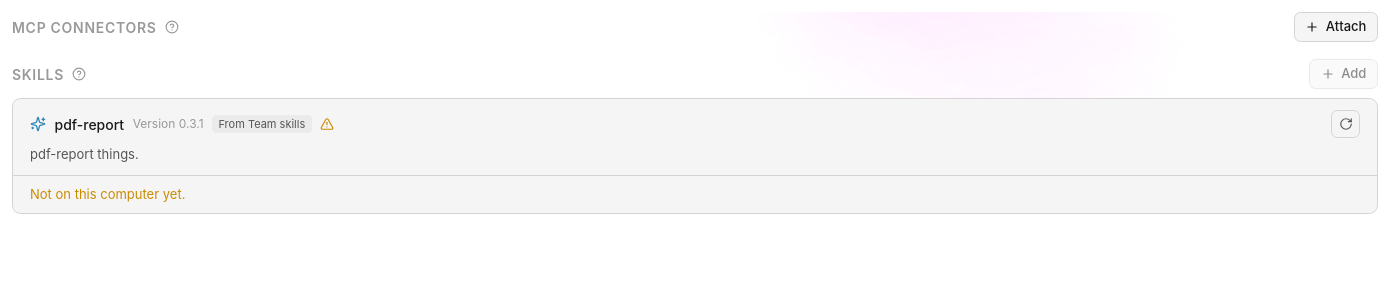
Scenario: the Skills section — a marketplace skill › offers Try again when the snapshot is not here, through the marketplace verb
Click the button named "Download pdf-report again" at (1346, 124), box [1331,110,1360,138]
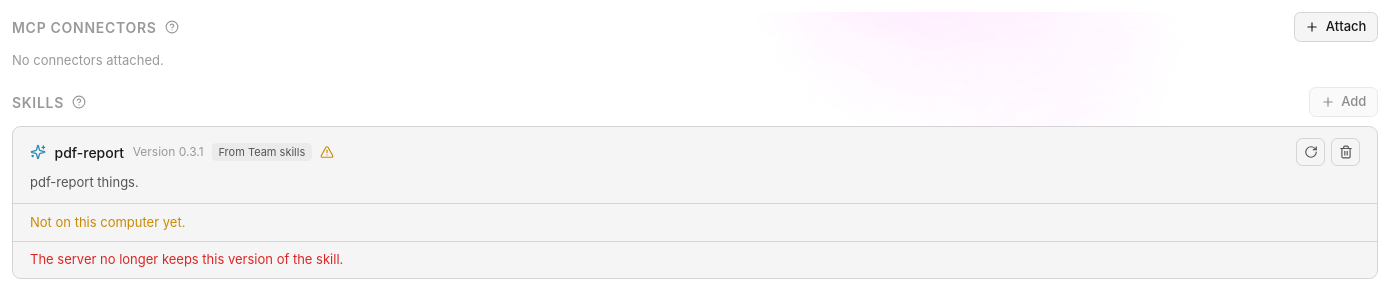
Expected: the message reads "The server no longer keeps this version of the skill.", [30,251,343,267]
